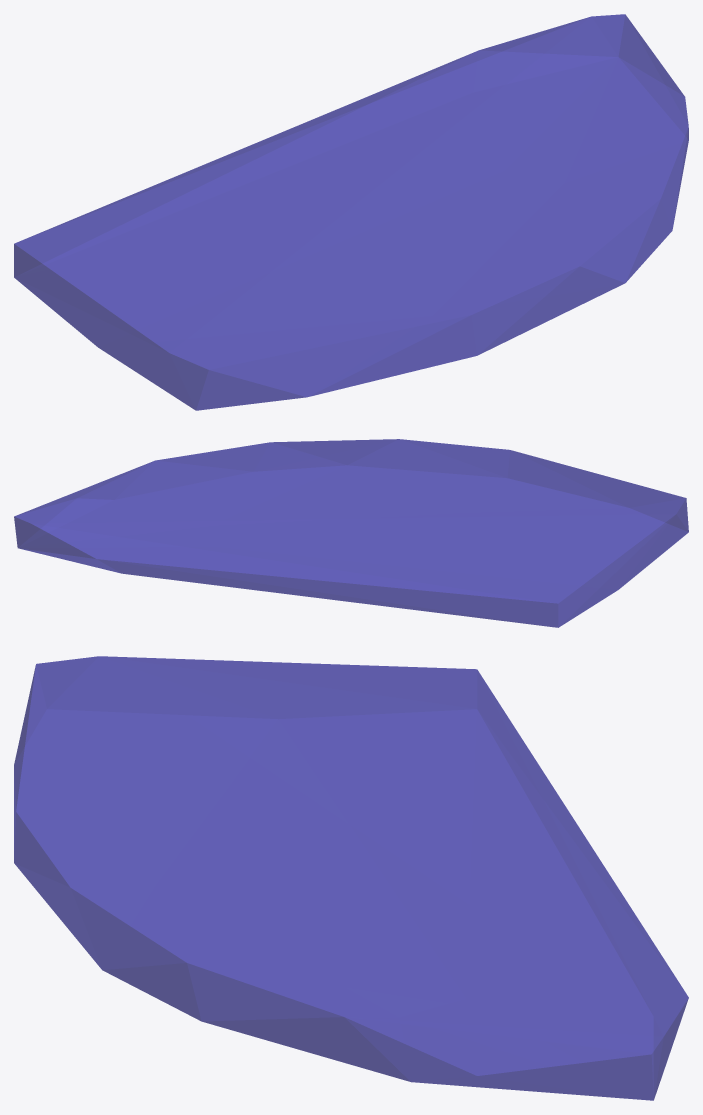
The picture shows the model from 3 angles, top to bottom: view 1: azimuth 30°, elevation 25°; view 2: azimuth 150°, elevation 25°; view 3: azimuth 270°, elevation 25°; orthographic projection. The views are drawn at different scales.
Visible parts, largest first — view 1: Shape_IndexedFaceSet.013_Shape_IndexedFaceSet.3670; view 2: Shape_IndexedFaceSet.013_Shape_IndexedFaceSet.3670; view 3: Shape_IndexedFaceSet.013_Shape_IndexedFaceSet.3670.
Part boxes in pixels (bbox=[...]): Shape_IndexedFaceSet.013_Shape_IndexedFaceSet.3670: bbox=[14, 14, 688, 410]; Shape_IndexedFaceSet.013_Shape_IndexedFaceSet.3670: bbox=[14, 439, 688, 627]; Shape_IndexedFaceSet.013_Shape_IndexedFaceSet.3670: bbox=[14, 656, 688, 1100].
Size of the model in its own units: 0.2388 by 0.0171 by 0.1713.
